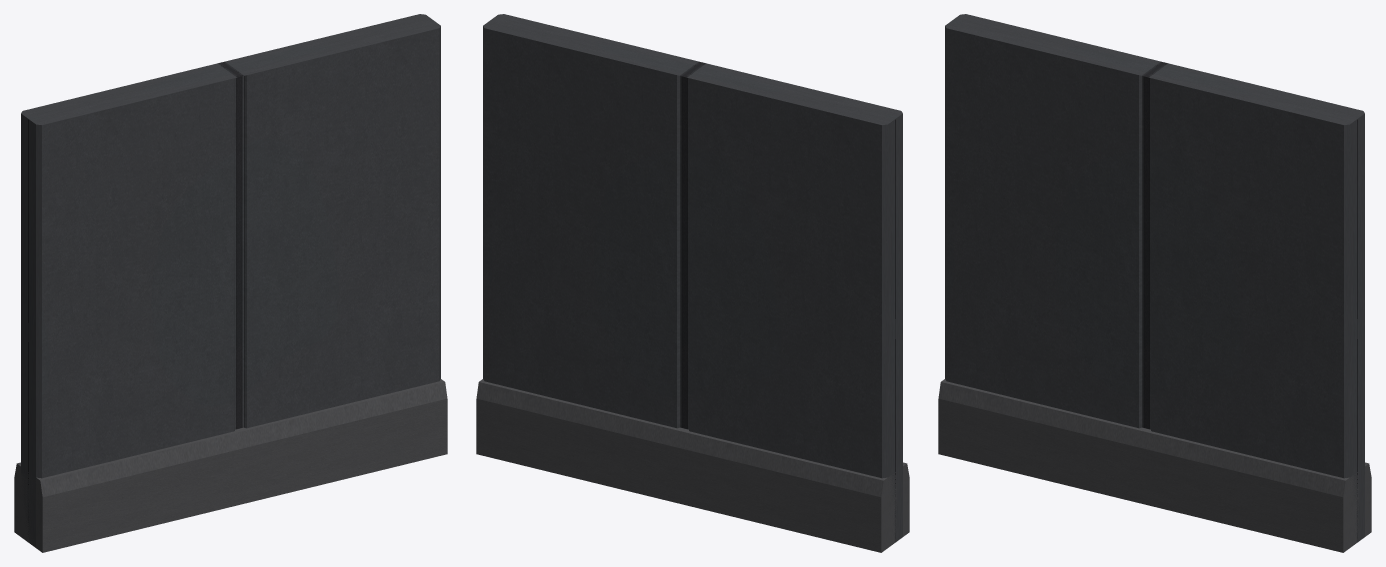
Rendered from wall.FBX.
The picture shows the model from 3 angles, left to right: view 1: azimuth 30°, elevation 25°; view 2: azimuth 150°, elevation 25°; view 3: azimuth 330°, elevation 25°; orthographic projection.
Parts seen in each view (by area): view 1: Box002, Box003; view 2: Box002, Box003; view 3: Box002, Box003.
Part boxes in pixels (x1,y1,x2,y2): Box002: (21, 14, 440, 547); Box003: (14, 379, 447, 552); Box002: (483, 14, 902, 542); Box003: (476, 379, 909, 552); Box002: (945, 14, 1364, 542); Box003: (938, 379, 1371, 552).
Size of the model in its own units: 6 by 6 by 0.722.
2 materials, 2 textured.
